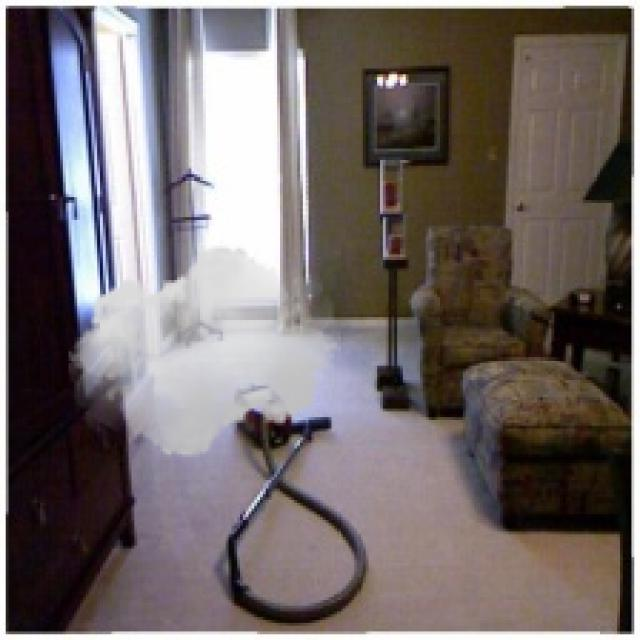smoke: (69, 237, 340, 466)
